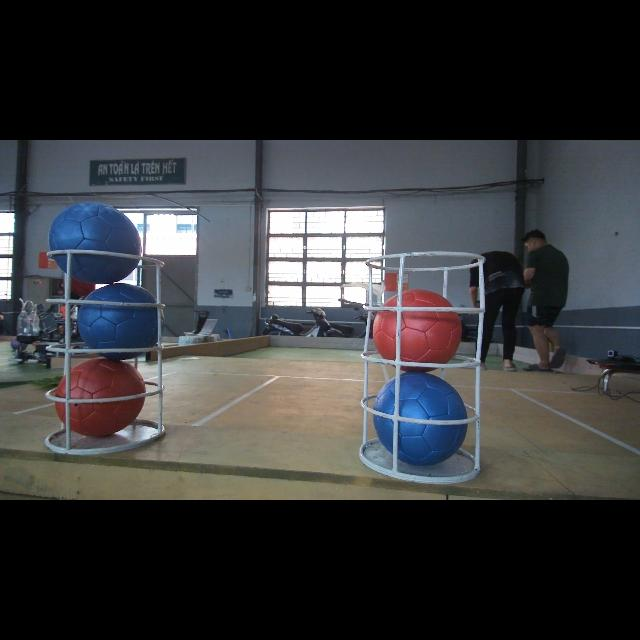B: (374, 372, 466, 466), (47, 202, 147, 284), (80, 282, 162, 358)
R: (372, 289, 463, 373), (56, 358, 144, 437)
